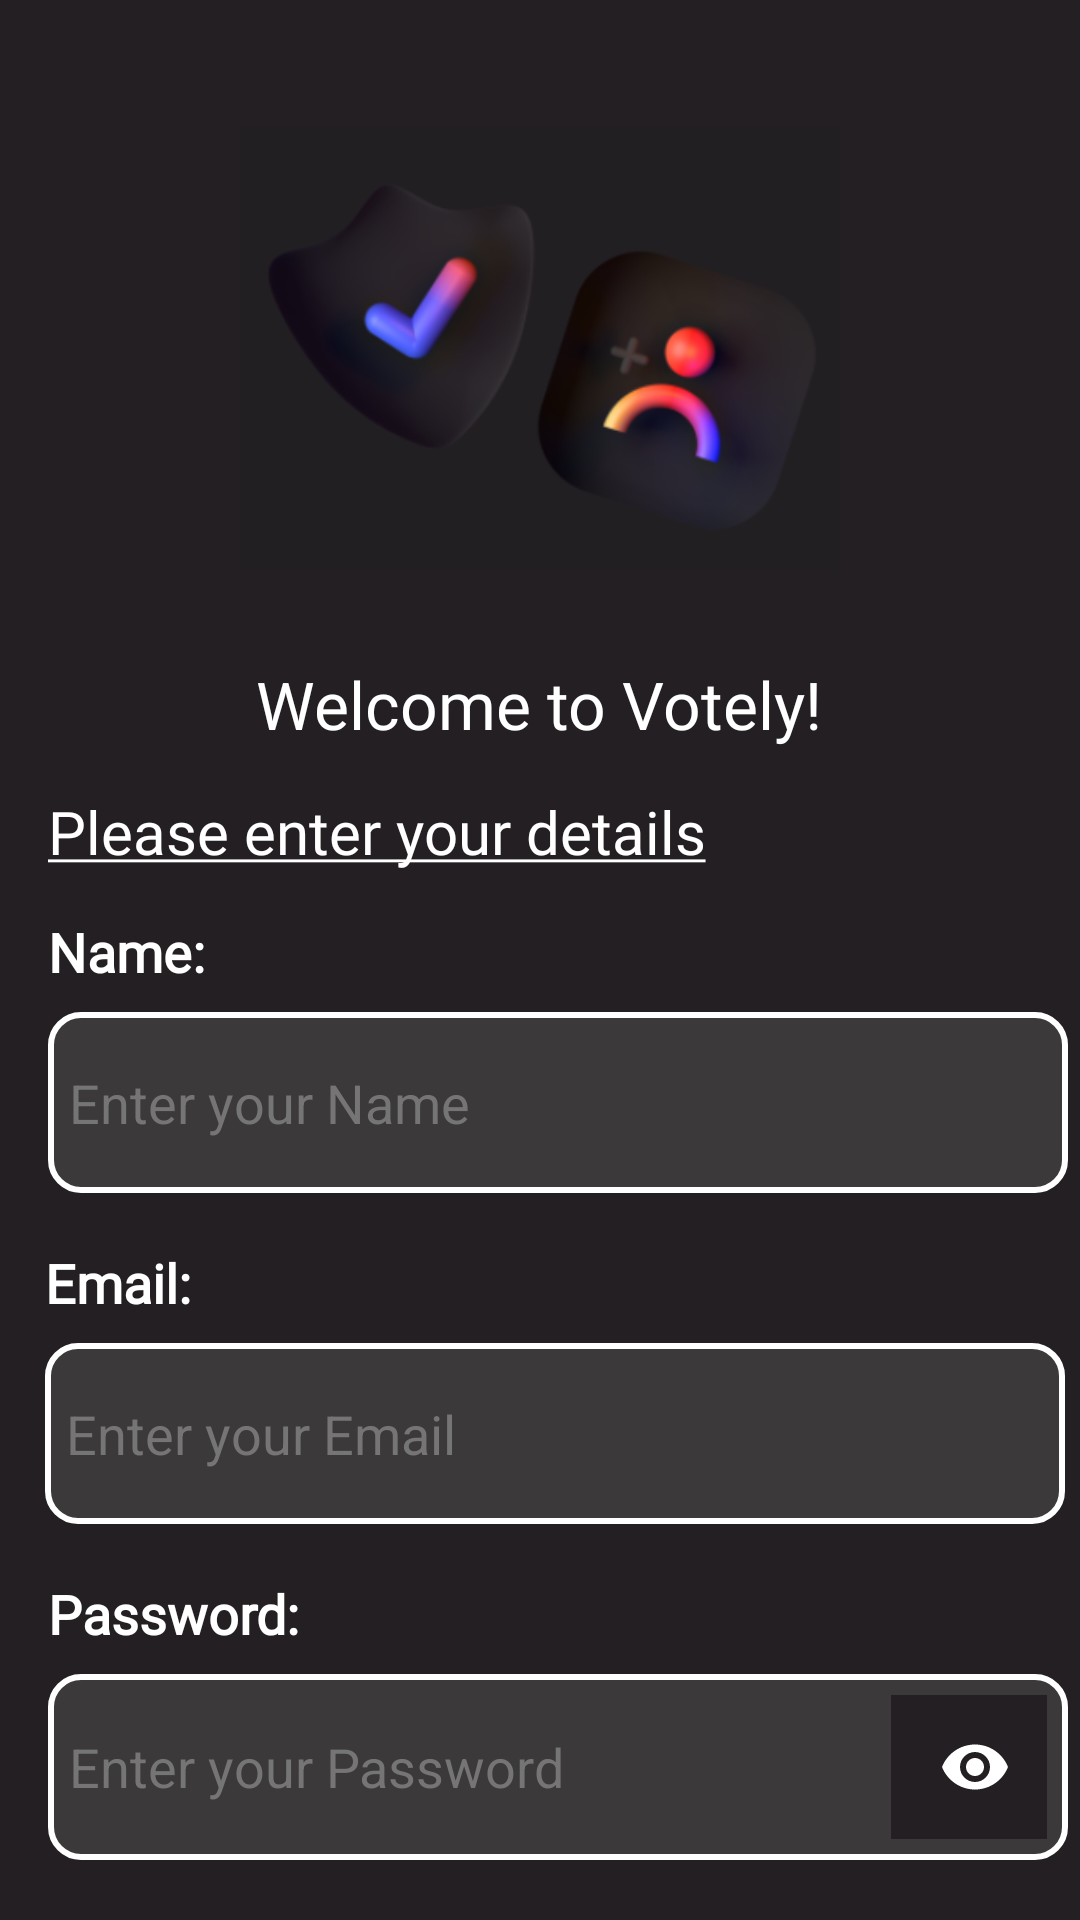

Screen size 1080px x 1920px. Icon name, then its center in pixels as point (x, y):
app welcome icon: point (543, 365)
